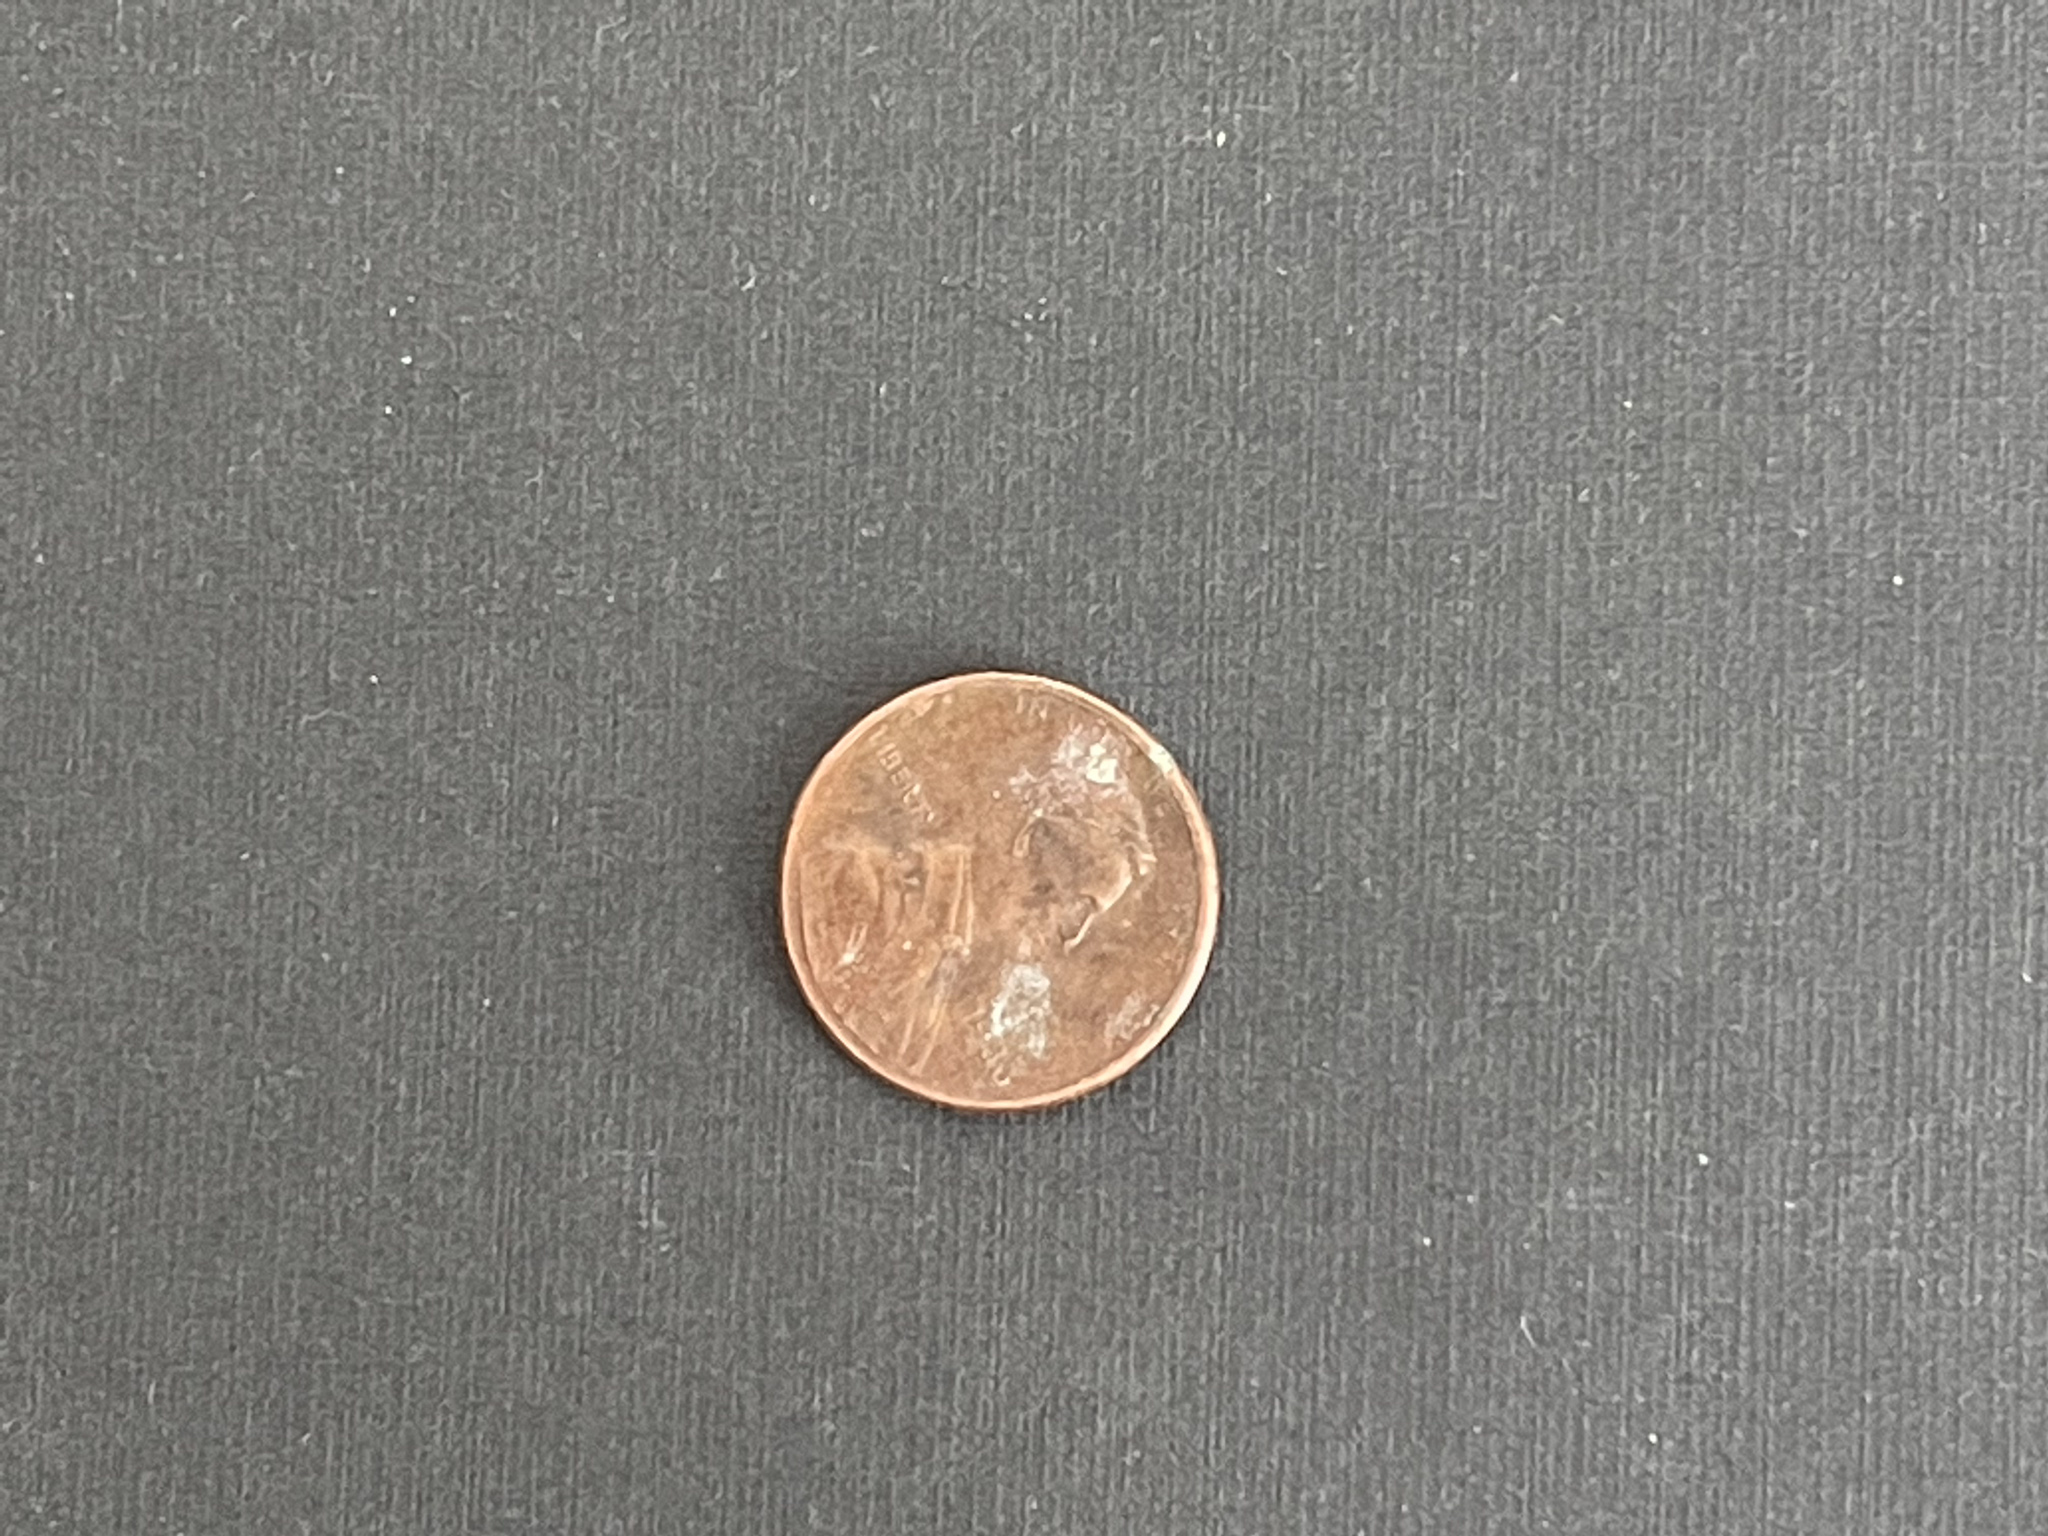penny: (769, 662, 1229, 1121)
